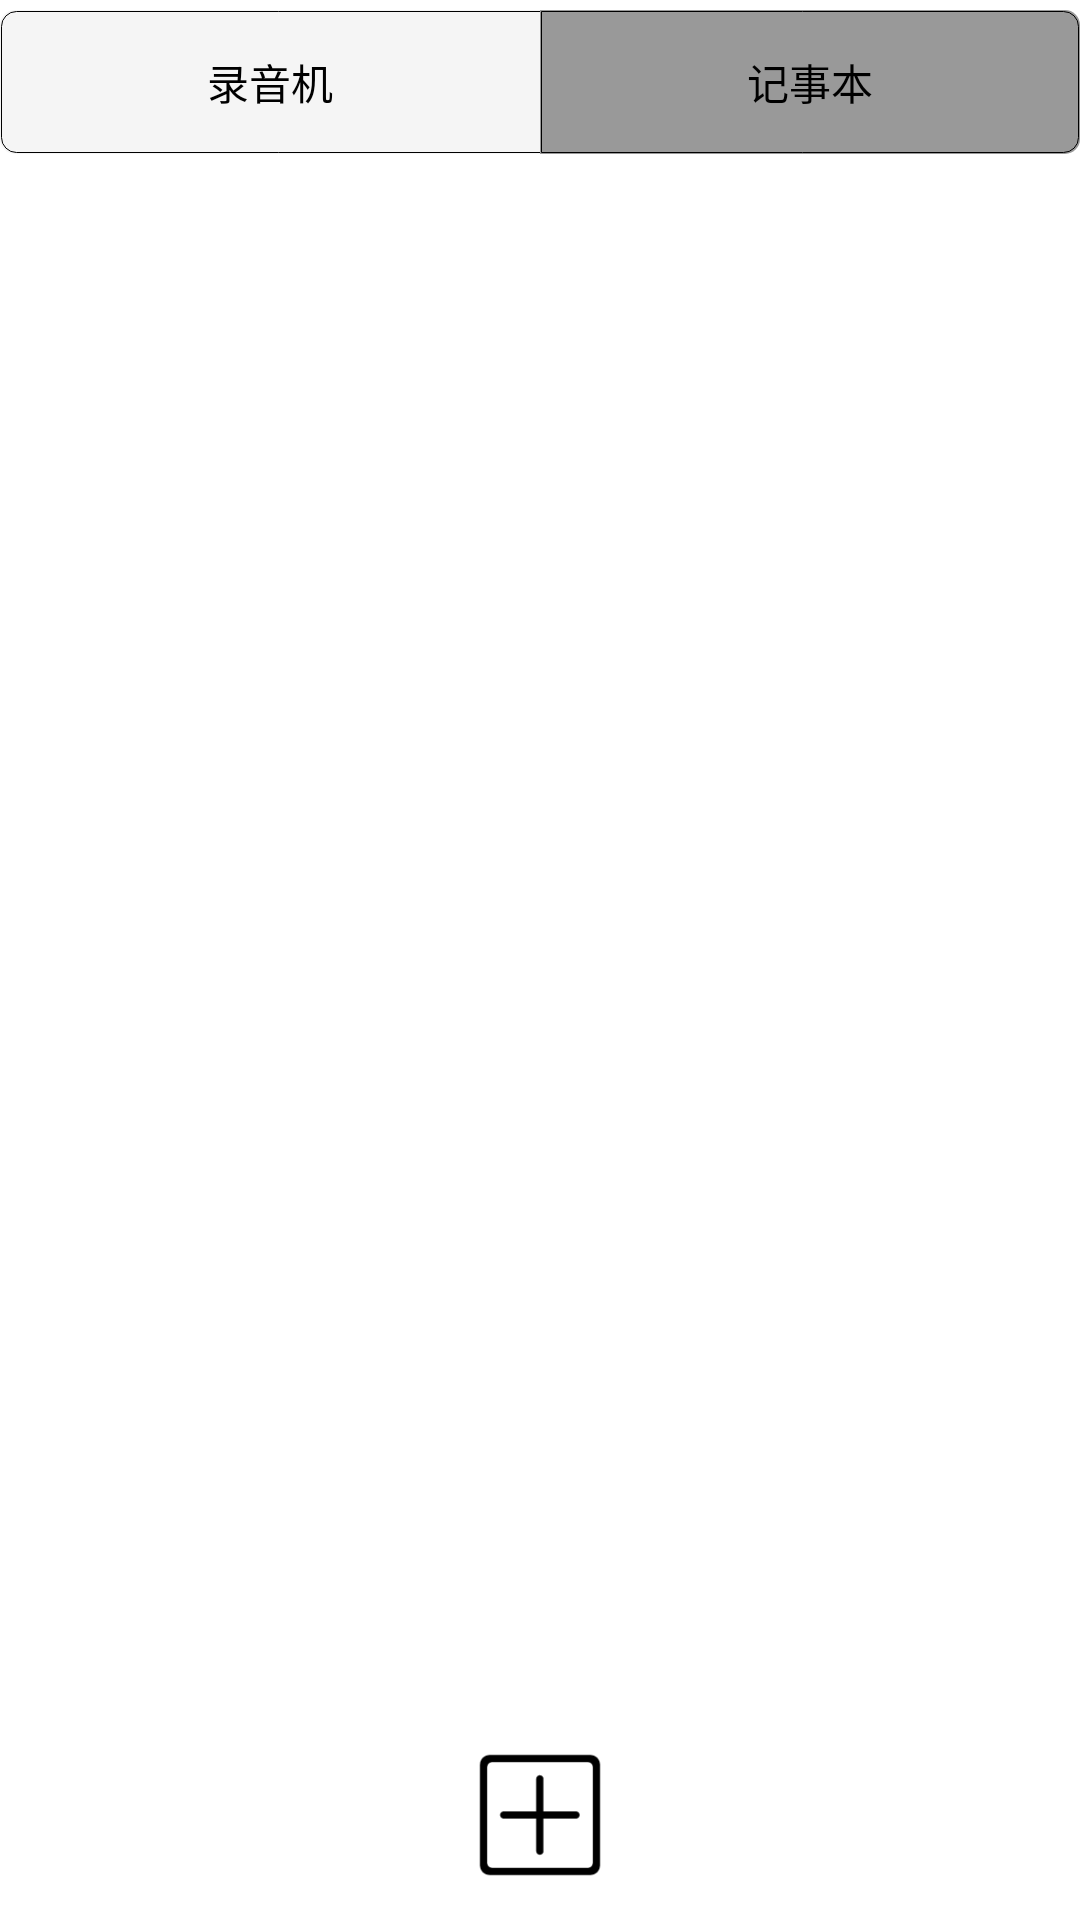

Where to tap for icons on this 1080 × 1920 app screen, as (x=x, y=y):
add: (x=540, y=1815)
